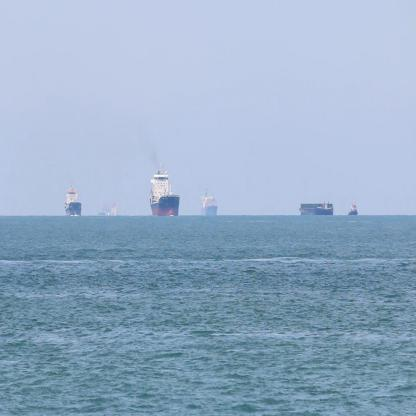Container Ship: (149, 161, 182, 221), (63, 179, 82, 220), (298, 198, 336, 218), (199, 186, 220, 221), (346, 201, 361, 218)
